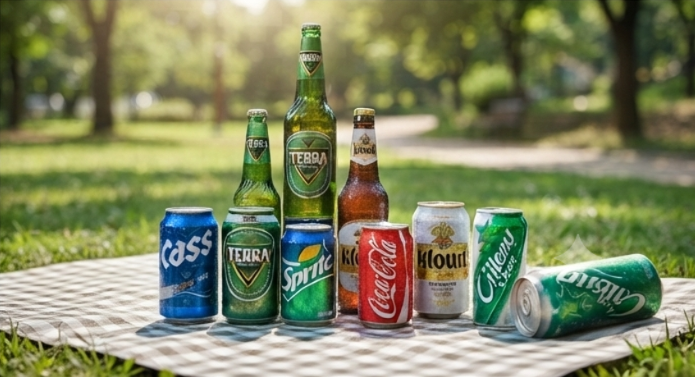beer-bottle: (281, 22, 337, 246), (335, 107, 387, 311), (233, 108, 281, 223)
beer-can: (156, 206, 219, 321), (220, 208, 281, 323), (407, 202, 469, 311)
